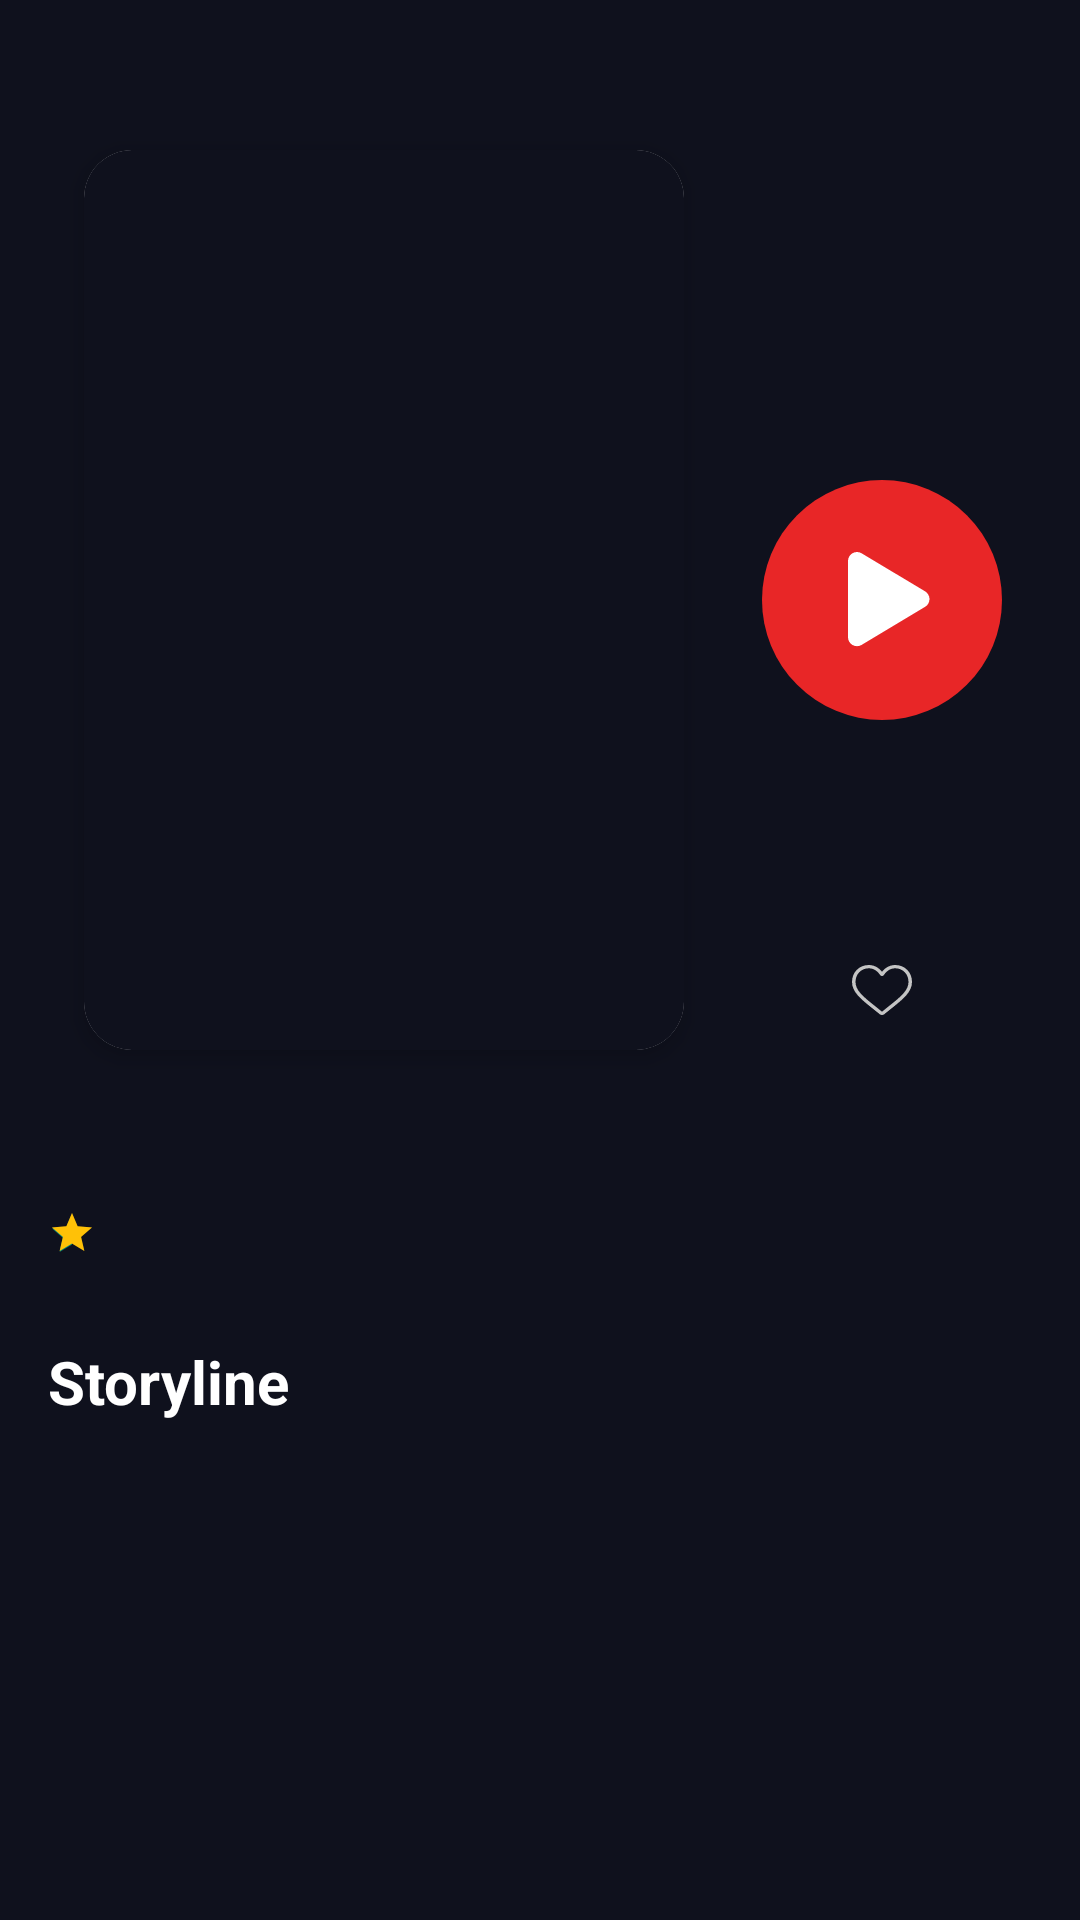

Screen size 1080px x 1920px. Icon name, then its box in pixels as detection(x1, y1, x2, y2):
heart: detection(852, 965, 912, 1015)
